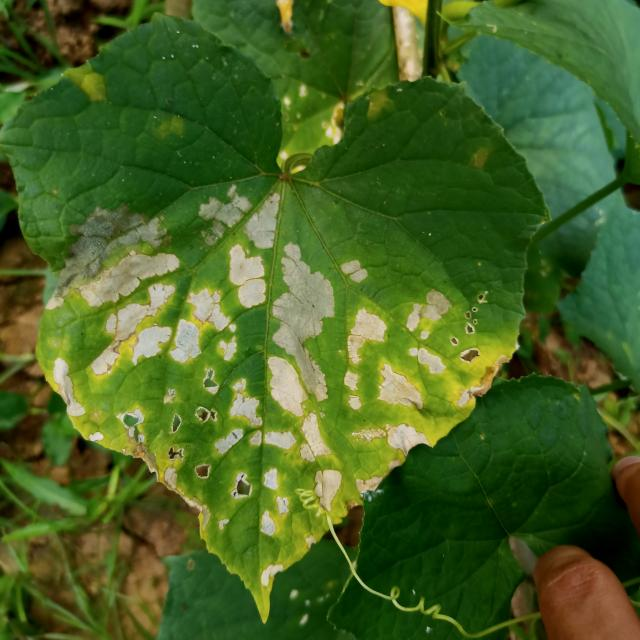disease_cucumber: (40, 186, 482, 592), (61, 58, 113, 118)
